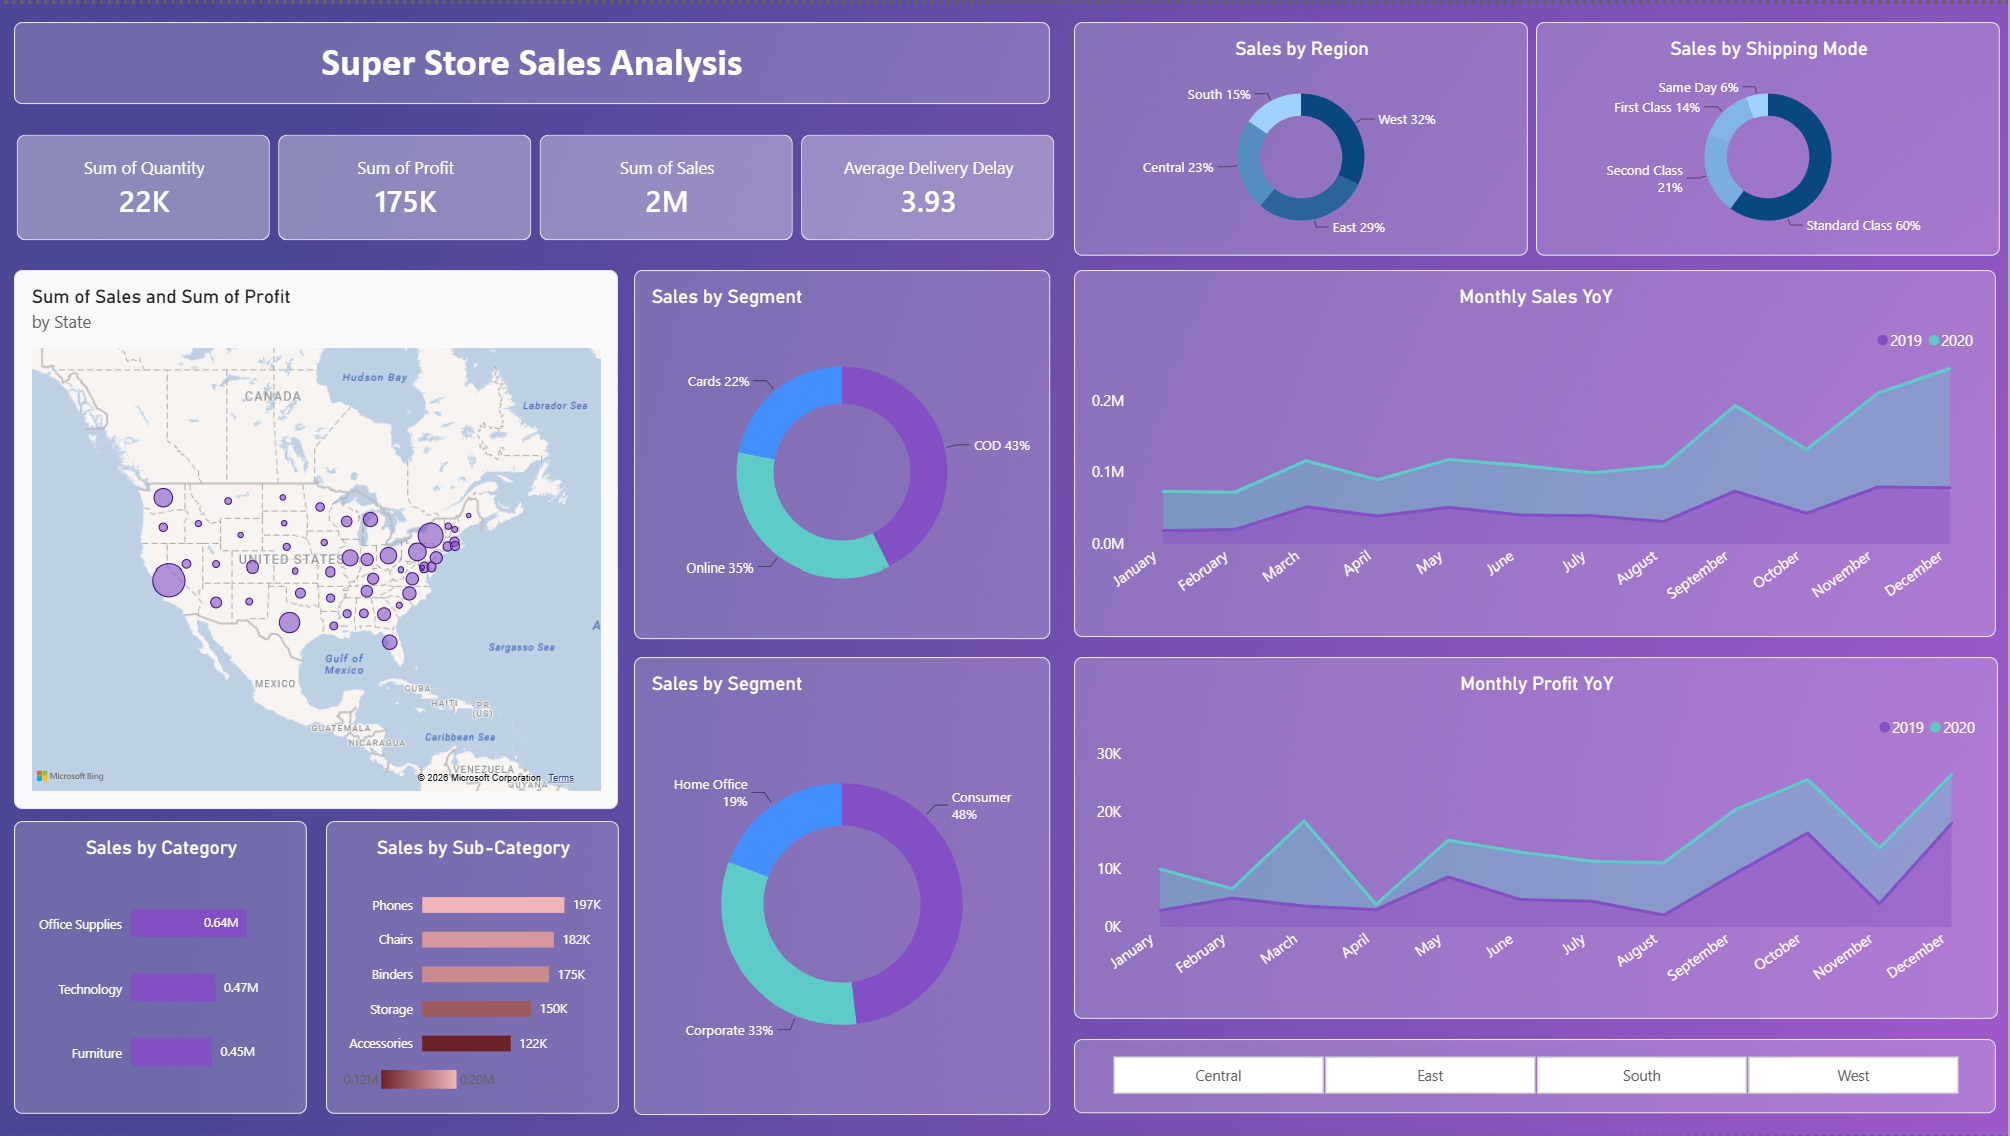

Layout of this report page (visuals, bound fields, positions):
{"tool":"powerbi","page":{"name":"Home","canvas":[1920,1080],"ordinal":0},"visuals":[{"type":"barChart","title":"Sales by Category","fields":{"Category":["SuperStore_Sales_Dataset.Category"],"Y":["Sum(SuperStore_Sales_Dataset.Sales)"]},"box":[13.4,780.2,280,280],"z":0},{"type":"barChart","title":"Sales by Sub-Category","fields":{"Category":["SuperStore_Sales_Dataset.Sub-Category"],"Y":["Sum(SuperStore_Sales_Dataset.Sales)"]},"box":[311.7,780.2,280,280],"z":1000},{"type":"donutChart","title":"Sales by Shipping Mode","fields":{"Category":["SuperStore_Sales_Dataset.Ship Mode"],"Y":["Sum(SuperStore_Sales_Dataset.Sales)"]},"box":[1468.7,17.2,443.7,223.7],"z":2000},{"type":"stackedAreaChart","title":"Monthly Sales YoY","fields":{"Category":["SuperStore_Sales_Dataset.Order Date.Variation.Date Hierarchy.Month","SuperStore_Sales_Dataset.Order Date.Variation.Date Hierarchy.Day"],"Series":["SuperStore_Sales_Dataset.Order Date.Variation.Date Hierarchy.Year"],"Y":["Sum(SuperStore_Sales_Dataset.Sales)"]},"box":[1026.9,254.3,881.6,350],"z":3000},{"type":"stackedAreaChart","title":"Monthly Profit YoY","fields":{"Category":["SuperStore_Sales_Dataset.Order Date.Variation.Date Hierarchy.Month","SuperStore_Sales_Dataset.Order Date.Variation.Date Hierarchy.Day"],"Series":["SuperStore_Sales_Dataset.Order Date.Variation.Date Hierarchy.Year"],"Y":["Sum(SuperStore_Sales_Dataset.Profit)"]},"box":[1026.9,623.4,883.5,346.1],"z":4000},{"type":"map","fields":{"Category":["SuperStore_Sales_Dataset.State"],"Size":["Sum(SuperStore_Sales_Dataset.Sales)"]},"box":[13.4,254.3,577.5,514.4],"z":5000},{"type":"donutChart","title":"Sales by  Segment","fields":{"Category":["SuperStore_Sales_Dataset.Segment"],"Y":["Sum(SuperStore_Sales_Dataset.Sales)"]},"box":[606.2,623.4,397.8,437.9],"z":6000},{"type":"donutChart","title":"Sales by  Segment","fields":{"Category":["SuperStore_Sales_Dataset.Payment Mode"],"Y":["Sum(SuperStore_Sales_Dataset.Sales)"]},"box":[606.2,254.3,397.8,351.9],"z":7000},{"type":"slicer","fields":{"Values":["SuperStore_Sales_Dataset.Region"]},"box":[1026.9,988.7,881.6,70.8],"z":8000},{"type":"textbox","box":[13.4,17.2,990.6,78.4],"z":9000},{"type":"cardVisual","fields":{"Data":["Sum(SuperStore_Sales_Dataset.Quantity)","Sum(SuperStore_Sales_Dataset.Profit)","Sum(SuperStore_Sales_Dataset.Sales)","Avg(SuperStore_Sales_Dataset.Average Delivery Delay)"]},"box":[0,110.9,1026.9,132],"z":10000},{"type":"donutChart","title":"Sales by Region","fields":{"Category":["SuperStore_Sales_Dataset.Region"],"Y":["Sum(SuperStore_Sales_Dataset.Sales)"]},"box":[1026.9,17.2,434.1,223.7],"z":10001}]}

Visuals, with their boxes in screenshot pixels (x1, y1, x2, y2), scaled from the page's 1920x1080 canvas onto the 2010x1136 screenshot:
"Sales by Category" barChart: <bbox>14, 821, 307, 1115</bbox>
"Sales by Sub-Category" barChart: <bbox>326, 821, 619, 1115</bbox>
"Sales by Shipping Mode" donutChart: <bbox>1538, 18, 2002, 253</bbox>
"Monthly Sales YoY" stackedAreaChart: <bbox>1075, 267, 1998, 636</bbox>
"Monthly Profit YoY" stackedAreaChart: <bbox>1075, 656, 2000, 1020</bbox>
map - SuperStore_Sales_Dataset.State x Sum(SuperStore_Sales_Dataset.Sales): <bbox>14, 267, 619, 809</bbox>
"Sales by  Segment" donutChart: <bbox>635, 656, 1051, 1116</bbox>
"Sales by  Segment" donutChart: <bbox>635, 267, 1051, 638</bbox>
slicer - SuperStore_Sales_Dataset.Region: <bbox>1075, 1040, 1998, 1114</bbox>
textbox: <bbox>14, 18, 1051, 101</bbox>
cardVisual - Sum(SuperStore_Sales_Dataset.Quantity) x Sum(SuperStore_Sales_Dataset.Profit): <bbox>0, 117, 1075, 255</bbox>
"Sales by Region" donutChart: <bbox>1075, 18, 1529, 253</bbox>
